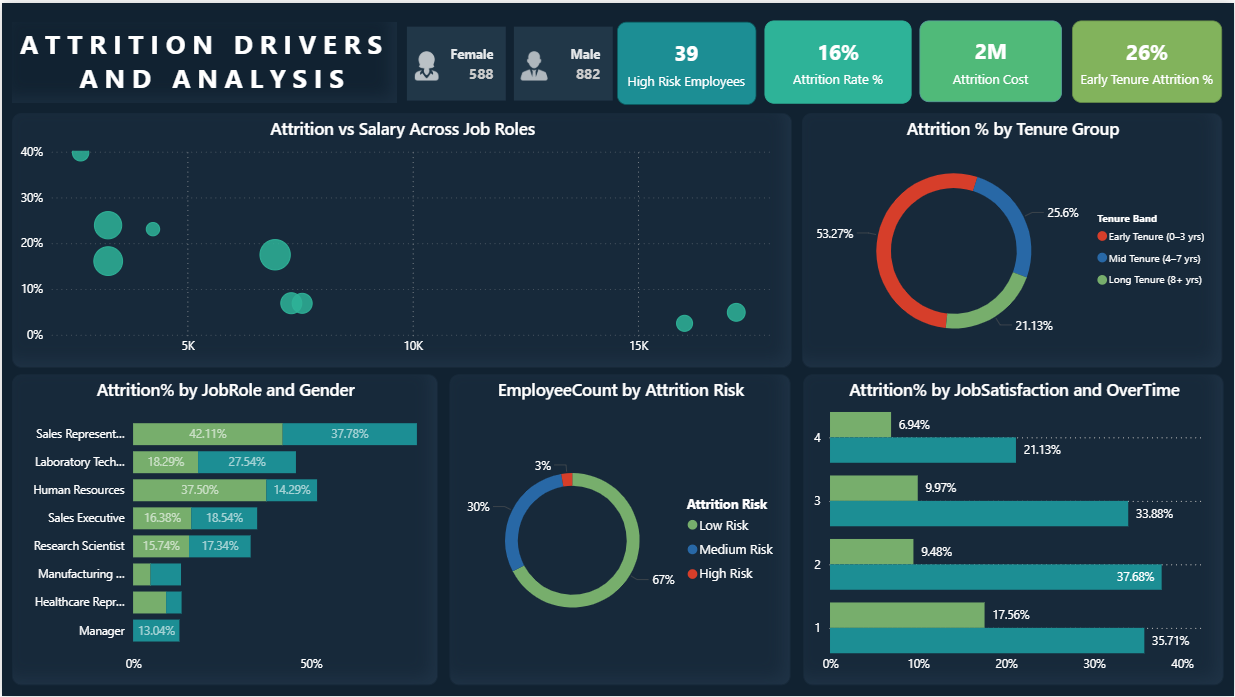

What the dashboard file says about the page in this screenshot:
{"tool":"powerbi","page":{"name":"Attrition Drivers & Risk Analysis","canvas":[1280,720],"ordinal":1},"visuals":[{"type":"card","fields":{"Values":["HR_Analytics.High Risk Employees"]},"box":[594.3,17.1,155.7,77.1],"z":0},{"type":"card","fields":{"Values":["Sum(HR_Analytics.Estimated Attrition Cost)"]},"box":[938.5,17.9,155.1,76.9],"z":1000},{"type":"card","fields":{"Values":["HR_Analytics.Attrition Rate %"]},"box":[762.8,16.7,155.1,74.4],"z":2000},{"type":"card","fields":{"Values":["HR_Analytics.Early Tenure Attrition %"]},"box":[1111.5,17.9,156.4,75.6],"z":3000},{"type":"donutChart","title":"EmployeeCount by Attrition Risk","fields":{"Category":["HR_Analytics.Attrition Risk"],"Y":["CountNonNull(HR_Analytics.EmployeeCount)"]},"box":[465.4,385.9,353.8,323.1],"z":3500},{"type":"barChart","fields":{"Category":["HR_Analytics.JobRole"],"Series":["HR_Analytics.Gender"],"Y":["HR_Analytics.Attrition%"]},"box":[10.3,385.9,442.3,323.1],"z":4000},{"type":"clusteredBarChart","fields":{"Series":["HR_Analytics.OverTime"],"Category":["HR_Analytics.JobSatisfaction"],"Y":["HR_Analytics.Attrition%"]},"box":[832.1,385.9,437.2,323.1],"z":6000},{"type":"scatterChart","title":"Attrition vs Salary Across Job Roles","fields":{"Category":["HR_Analytics.JobRole"],"X":["HR_Analytics.Avg_Salary"],"Y":["HR_Analytics.Attrition%"],"Size":["CountNonNull(HR_Analytics.EmployeeCount)"]},"box":[9.8,114.1,809.8,256.4],"z":7000},{"type":"textbox","box":[9.8,18.4,570.6,85.9],"z":8000},{"type":"pieChart","title":"Attrition % by Tenure Group","fields":{"Category":["HR_Analytics.Tenure Band"],"Y":["HR_Analytics.Attrition percentage%"]},"box":[830.8,114.1,437.2,256.4],"z":9000}]}

Visuals, with their boxes in screenshot pixels (x1, y1, x2, y2), scaled from the page's 1280x720 canvas onto the 1235x697 screenshot:
card - HR_Analytics.High Risk Employees: l=573, t=17, r=724, b=91
card - Sum(HR_Analytics.Estimated Attrition Cost): l=906, t=17, r=1055, b=92
card - HR_Analytics.Attrition Rate %: l=736, t=16, r=886, b=88
card - HR_Analytics.Early Tenure Attrition %: l=1072, t=17, r=1223, b=91
"EmployeeCount by Attrition Risk" donutChart: l=449, t=374, r=790, b=686
barChart - HR_Analytics.JobRole x HR_Analytics.Gender: l=10, t=374, r=437, b=686
clusteredBarChart - HR_Analytics.OverTime x HR_Analytics.JobSatisfaction: l=803, t=374, r=1225, b=686
"Attrition vs Salary Across Job Roles" scatterChart: l=9, t=110, r=791, b=359
textbox: l=9, t=18, r=560, b=101
"Attrition % by Tenure Group" pieChart: l=802, t=110, r=1223, b=359
